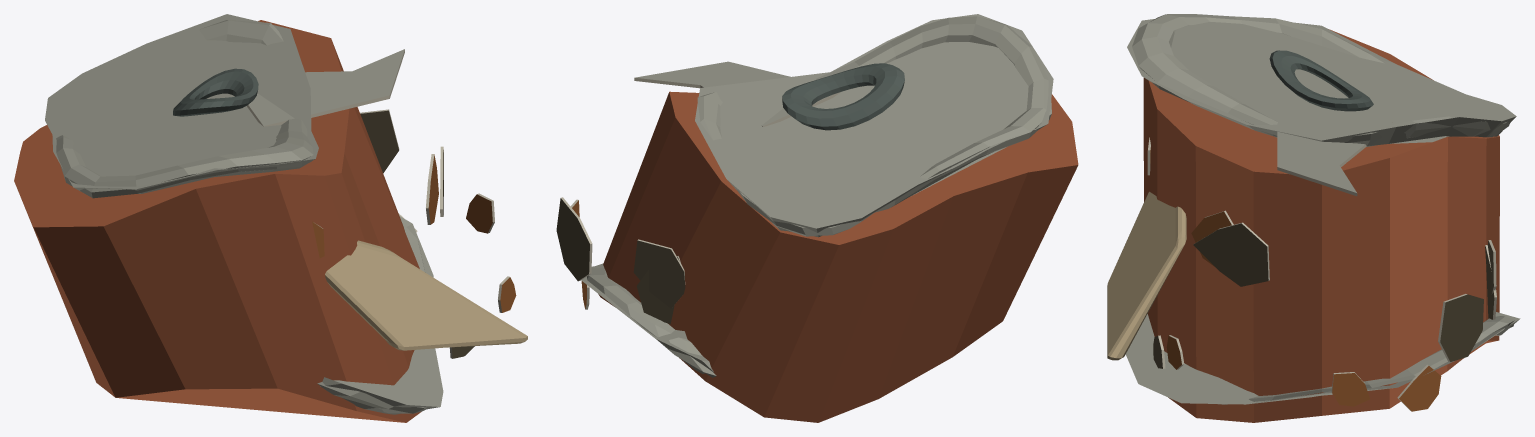
Rendered from Can_Flattened_Dirty.glb.
3 views of the same model, side by side, from view 1: azimuth 30°, elevation 25°; view 2: azimuth 150°, elevation 25°; view 3: azimuth 270°, elevation 25° (orthographic). The views are drawn at different scales.
Visible parts, largest first — view 1: Litter; view 2: Litter; view 3: Litter.
Boxes of the visible parts, <box> form: Litter: <box>14,14,527,422</box>; Litter: <box>556,14,1078,422</box>; Litter: <box>1107,14,1520,422</box>.
Size of the model in its own units: 0.2999 by 0.1843 by 0.2326.
